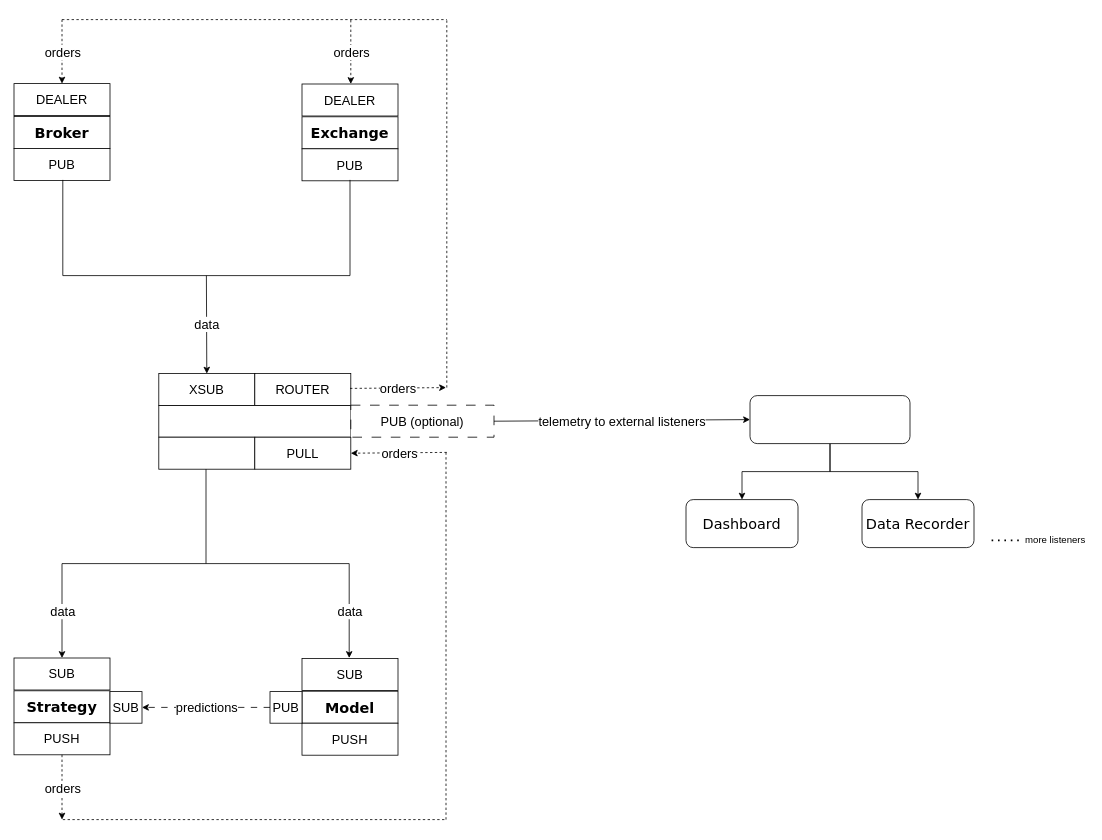
Some shapes in this 1102 by 840 pixel diagram are drawn without their labels. The box of each missing label's shape, as (x1, y1, x2, y2) in pixels:
PFund Engine: (158, 405, 351, 437)
WebSocket Server: (749, 395, 910, 444)
XPUB: (158, 436, 255, 469)
